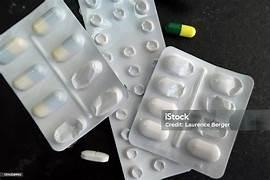pill_Strip: (79, 0, 189, 179), (0, 0, 126, 150), (129, 47, 253, 177), (0, 43, 83, 150), (32, 13, 117, 115), (50, 1, 125, 106), (79, 0, 164, 88), (109, 93, 189, 179), (141, 61, 204, 120), (193, 81, 252, 108), (51, 31, 84, 62), (32, 90, 67, 117), (91, 87, 123, 116), (32, 7, 65, 35), (71, 60, 102, 89), (12, 64, 46, 90), (53, 117, 87, 143), (0, 37, 29, 65), (186, 138, 220, 161), (210, 73, 243, 96), (163, 55, 195, 77), (139, 119, 169, 141), (145, 97, 176, 117), (156, 77, 184, 97), (164, 22, 195, 37), (116, 115, 129, 140), (81, 150, 108, 162), (198, 128, 227, 137), (179, 24, 195, 37), (135, 0, 149, 14), (121, 45, 136, 58), (112, 7, 126, 20), (145, 40, 160, 52), (140, 20, 154, 32), (94, 33, 108, 45), (89, 14, 103, 26), (129, 166, 142, 178), (153, 159, 165, 171), (125, 148, 138, 159), (127, 65, 140, 76), (132, 84, 144, 95), (85, 0, 99, 7)
